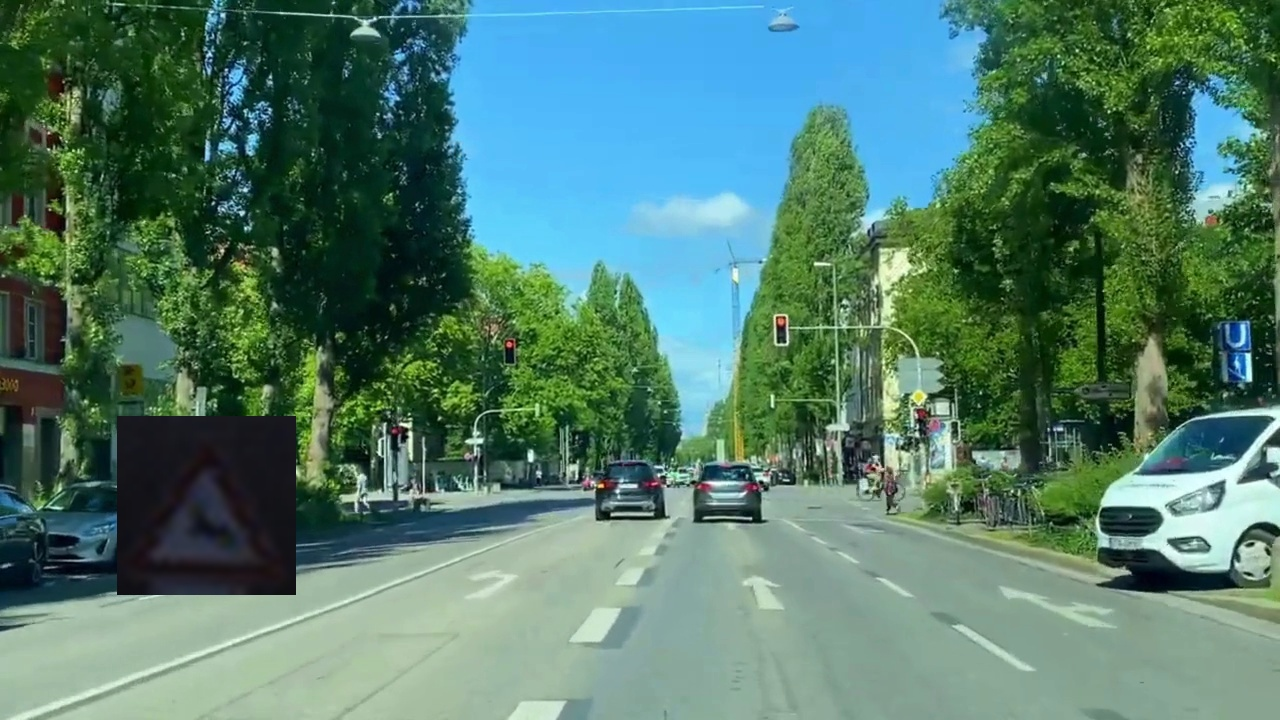Wild animals: (117, 416, 296, 595)
